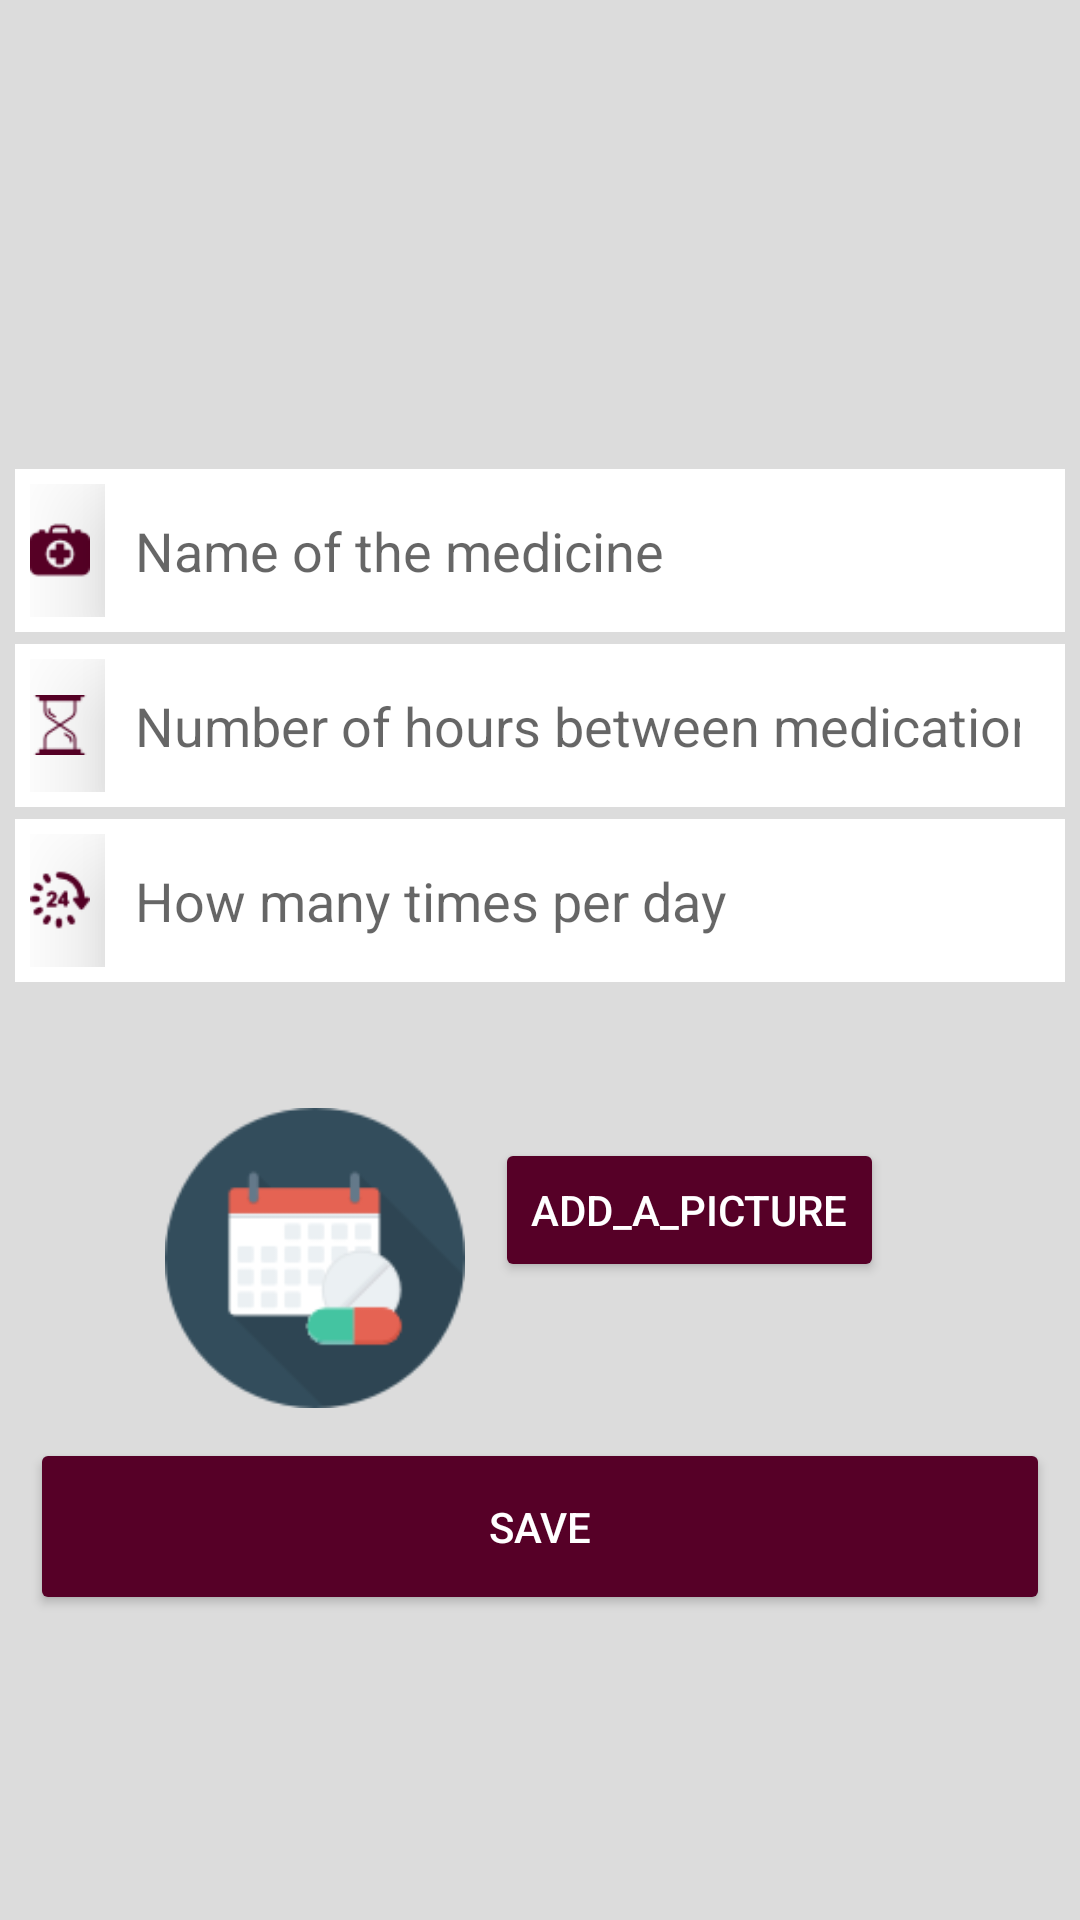

Icons on this 1080w x 1920h Android screen, each with its box as (x1, y1, x2, y2):
briefcase: (30, 523, 90, 577)
calendar: (165, 1108, 465, 1408)
hourglass: (33, 695, 90, 755)
receiving time: (30, 871, 90, 929)
